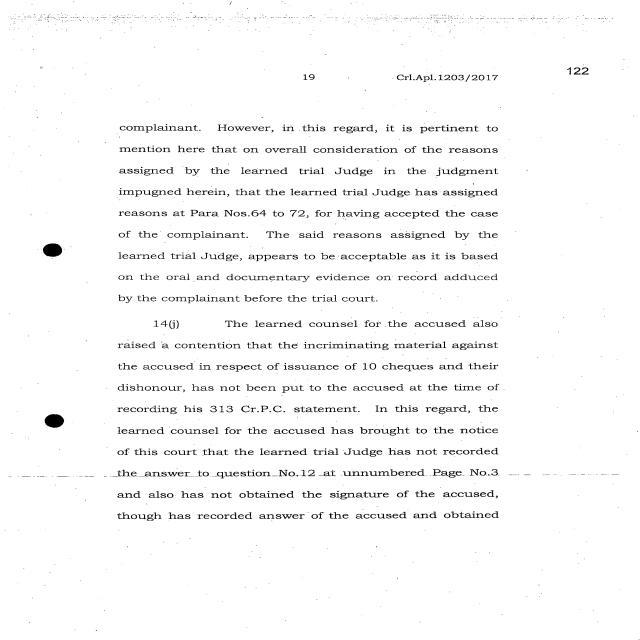page-number: (500, 20, 638, 120)
